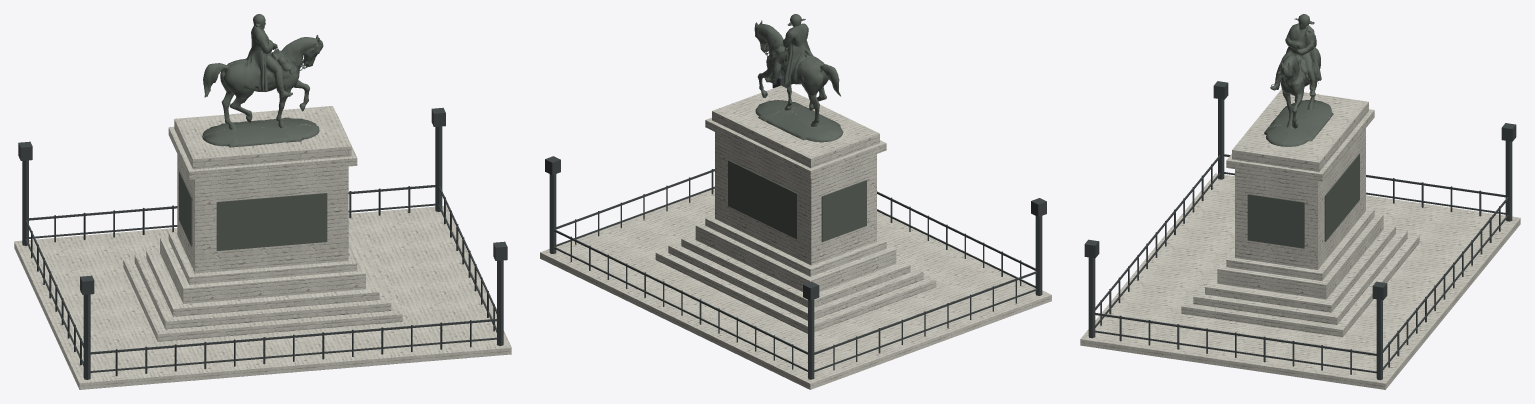
File: mohamed-ali.glb
3 views of the same model, side by side, from view 1: azimuth 30°, elevation 25°; view 2: azimuth 150°, elevation 25°; view 3: azimuth 270°, elevation 25° (orthographic). The views are drawn at different scales.
Parts seen in each view (by area): view 1: MohamedAliStatue; view 2: MohamedAliStatue; view 3: MohamedAliStatue.
Part boxes in pixels (x1=…): MohamedAliStatue: x1=14, y1=14, x2=511, y2=389; MohamedAliStatue: x1=540, y1=14, x2=1051, y2=389; MohamedAliStatue: x1=1080, y1=14, x2=1520, y2=389.
Size of the model in its own units: 21.58 by 12.88 by 19.1.
3 materials, 1 textured.
